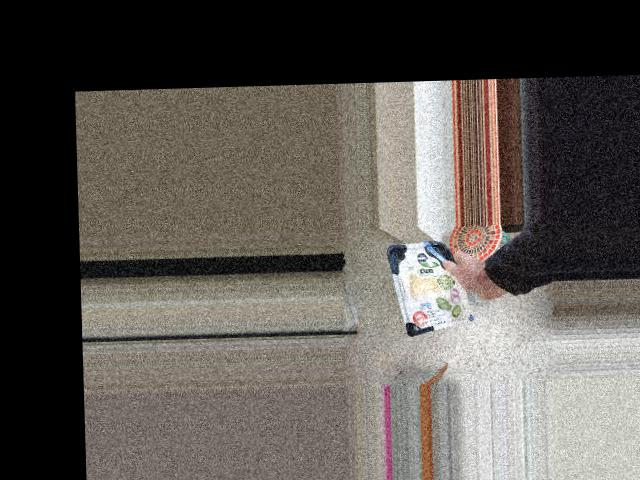cheese: (394, 234, 465, 337)
